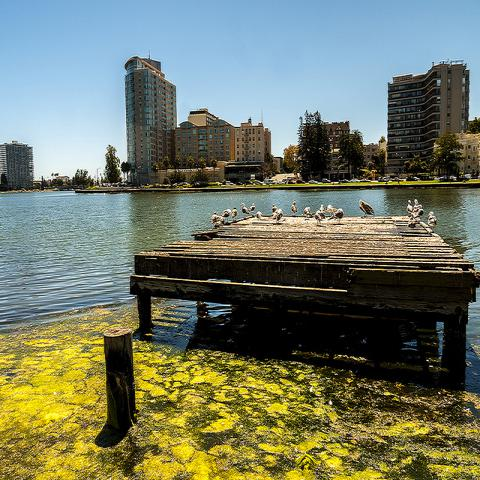car: (390, 176, 404, 182), (420, 174, 432, 181), (406, 175, 417, 182), (378, 176, 388, 182), (359, 178, 371, 182), (322, 178, 331, 183), (296, 179, 305, 184), (460, 176, 469, 180), (351, 178, 360, 182), (434, 176, 443, 180), (309, 180, 318, 183)
